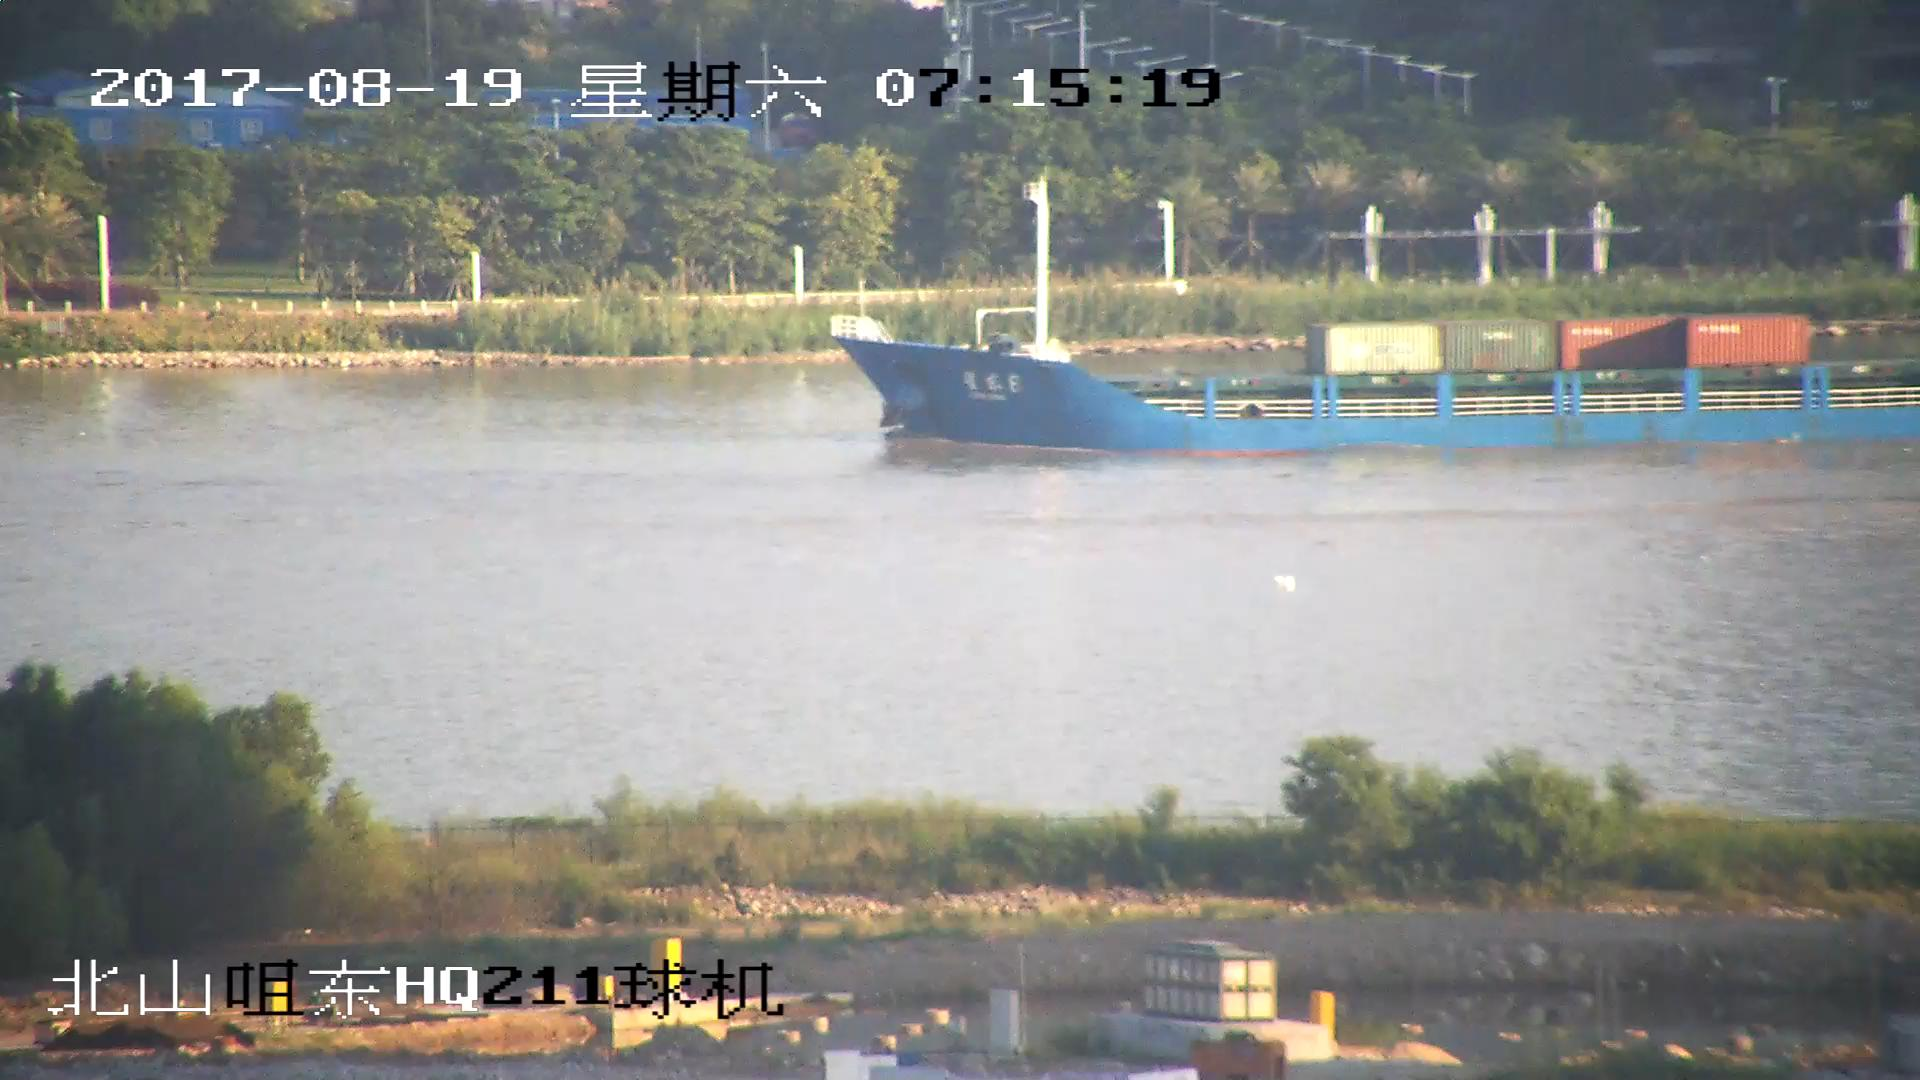general cargo ship: (830, 183, 1920, 458)
